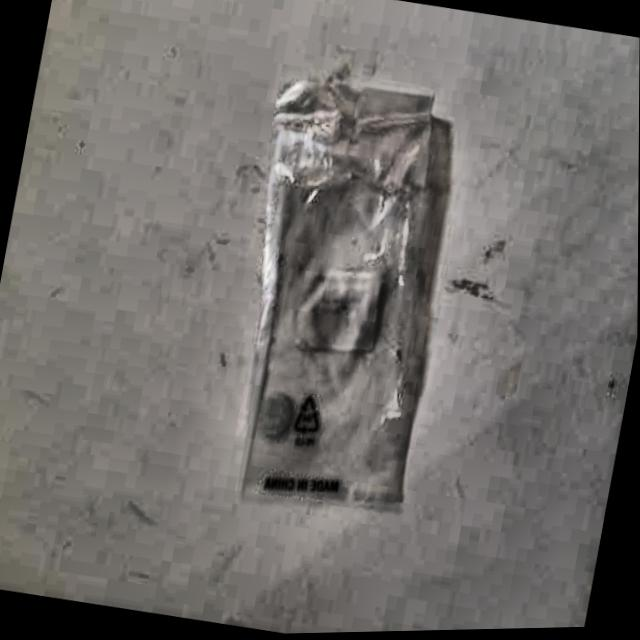Plastic: (197, 45, 527, 554)
